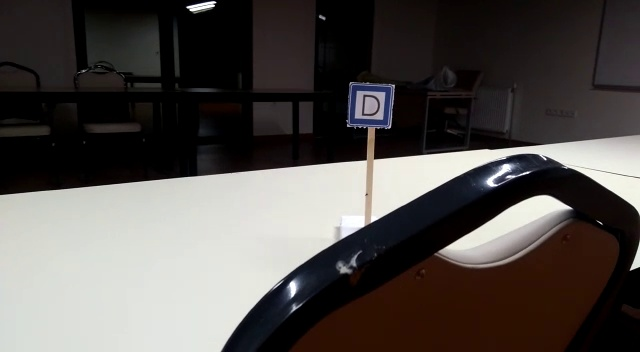durak: (349, 82, 394, 127)
